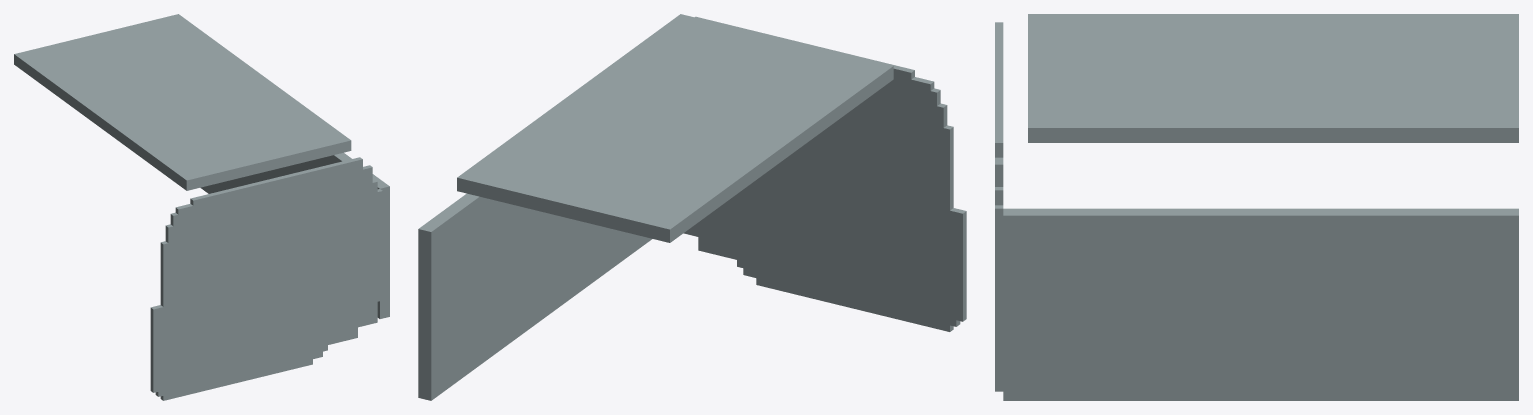
Rendered from BusStop(1)-0.obj.
3 renders of one model, left to right at view 1: azimuth 30°, elevation 25°; view 2: azimuth 150°, elevation 25°; view 3: azimuth 270°, elevation 25°, orthographic. The views are drawn at different scales.
Size of the model in its own units: 4.8 by 3.9 by 6.4.
Materials: 1 (1 with a texture image).
